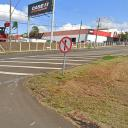NoSeguir: (59, 37, 73, 53)
